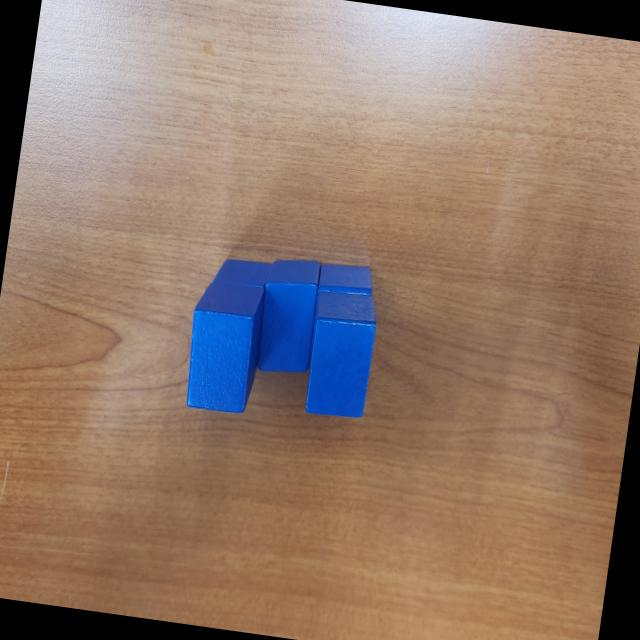blue: (179, 278, 268, 419), (300, 286, 382, 424), (253, 254, 324, 380), (310, 260, 377, 353), (211, 252, 273, 290)
